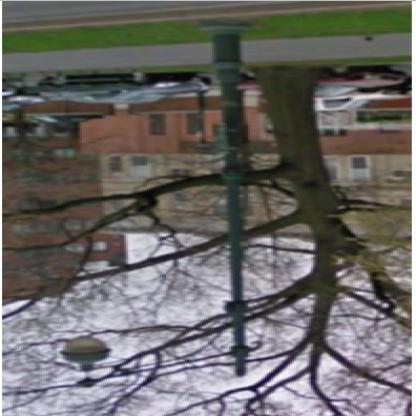Streetlights 1: (51, 19, 265, 387)
